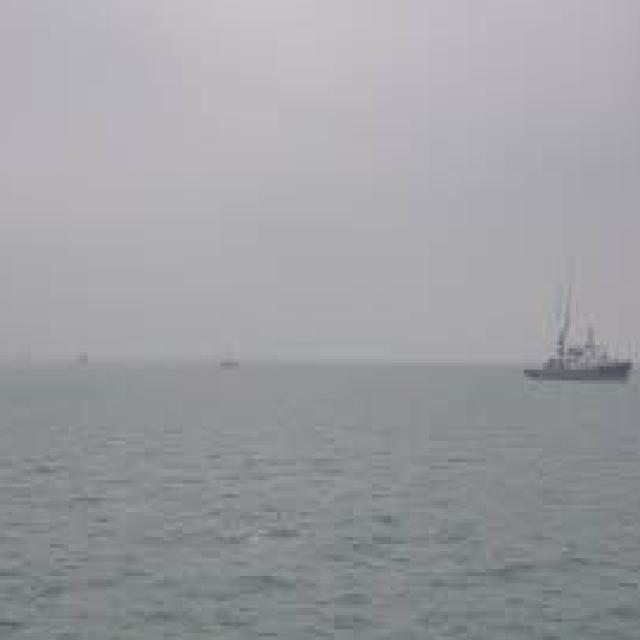cargoship: (522, 320, 635, 383)
